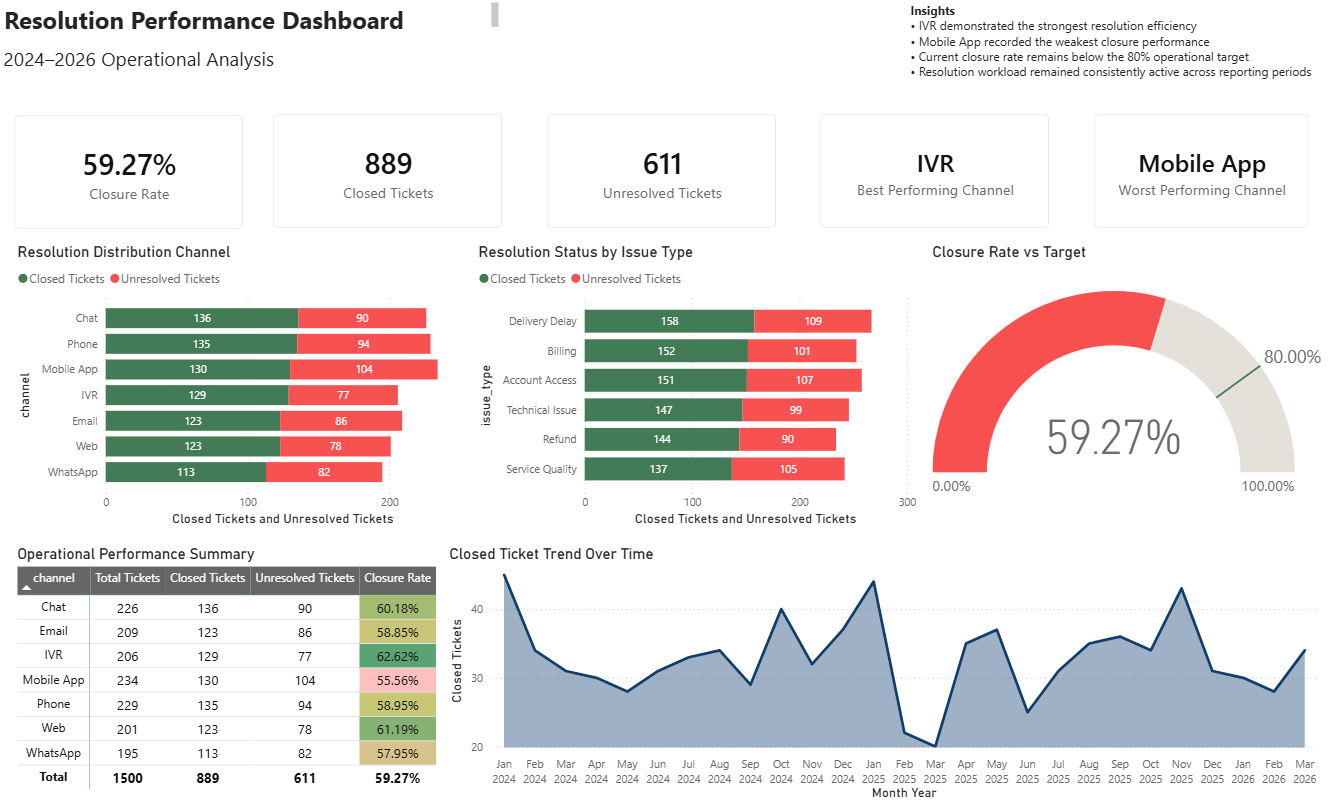

Layout of this report page (visuals, bound fields, positions):
{"tool":"powerbi","page":{"name":"Resolution Performance","canvas":[1480,900],"ordinal":2},"visuals":[{"type":"group","id":"g1","title":"Group 1","box":[0,0,560,96],"z":0},{"type":"textbox","box":[0,0,560,48],"z":0,"group":"g1"},{"type":"textbox","box":[0,48,560,48],"z":1000,"group":"g1"},{"type":"cardVisual","fields":{"Data":["support_tickets.Closure Rate"]},"box":[-0.1,113,288,160],"z":1000},{"type":"cardVisual","fields":{"Data":["support_tickets.Closed Tickets"]},"box":[288,112,288,160],"z":2000},{"type":"cardVisual","fields":{"Data":["support_tickets.Unresolved Tickets"]},"box":[592,112,288,160],"z":3000},{"type":"cardVisual","fields":{"Data":["support_tickets.Best Performing Channel"]},"box":[896,112,288,160],"z":4000},{"type":"cardVisual","fields":{"Data":["support_tickets.Worst Performing Channel"]},"box":[1200,112,272,160],"z":5000},{"type":"barChart","title":"Resolution Distribution Channel","fields":{"Category":["support_tickets.channel"],"Y":["support_tickets.Closed Tickets","support_tickets.Unresolved Tickets"]},"box":[16,272,512,320],"z":6000},{"type":"gauge","title":"Closure Rate vs Target","fields":{"Y":["support_tickets.Closure Rate"],"TargetValue":["support_tickets.Closure Rate Target"]},"box":[1032,272,448,320],"z":7000},{"type":"barChart","title":"Resolution Status by Issue Type","fields":{"Category":["support_tickets.issue_type"],"Y":["support_tickets.Closed Tickets","support_tickets.Unresolved Tickets"]},"box":[528,272,496,320],"z":8000},{"type":"pivotTable","title":"Operational Performance Summary","fields":{"Rows":["support_tickets.channel"],"Values":["support_tickets.Total Tickets","support_tickets.Closed Tickets","support_tickets.Unresolved Tickets","support_tickets.Closure Rate"]},"box":[16,608,496,288],"z":9000},{"type":"areaChart","title":"Closed Ticket Trend Over Time","fields":{"Category":["support_tickets.Month Year"],"Y":["support_tickets.Closed Tickets"]},"box":[496,608,976,288],"z":10000},{"type":"textbox","box":[1008,0,464,96],"z":11000}]}

Visuals, with their boxes in screenshot pixels (x1, y1, x2, y2), scaled from the page's 1480x900 canvas onto the 1328x805 screenshot:
"Group 1" group: l=0, t=0, r=502, b=86
textbox: l=0, t=0, r=502, b=43
textbox: l=0, t=43, r=502, b=86
cardVisual - support_tickets.Closure Rate: l=0, t=101, r=258, b=244
cardVisual - support_tickets.Closed Tickets: l=258, t=100, r=517, b=243
cardVisual - support_tickets.Unresolved Tickets: l=531, t=100, r=790, b=243
cardVisual - support_tickets.Best Performing Channel: l=804, t=100, r=1062, b=243
cardVisual - support_tickets.Worst Performing Channel: l=1077, t=100, r=1321, b=243
"Resolution Distribution Channel" barChart: l=14, t=243, r=474, b=530
"Closure Rate vs Target" gauge: l=926, t=243, r=1327, b=530
"Resolution Status by Issue Type" barChart: l=474, t=243, r=919, b=530
"Operational Performance Summary" pivotTable: l=14, t=544, r=459, b=801
"Closed Ticket Trend Over Time" areaChart: l=445, t=544, r=1321, b=801
textbox: l=904, t=0, r=1321, b=86
